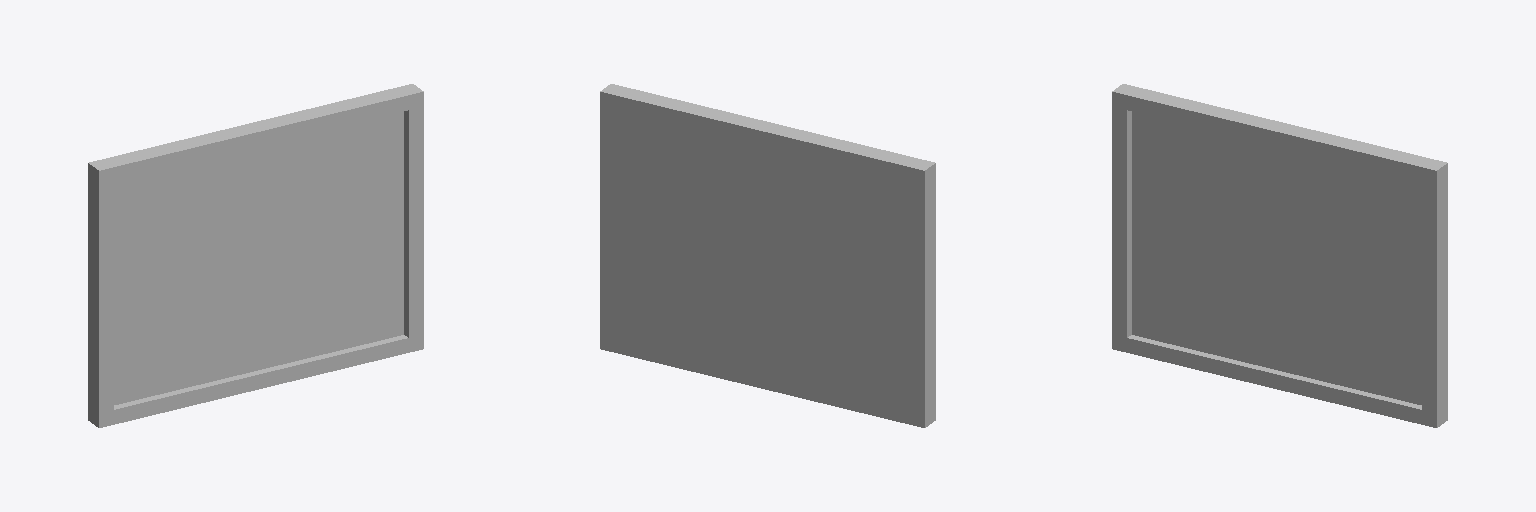
The model's file is window_004.obj.
3 renders of one model, left to right at view 1: azimuth 30°, elevation 25°; view 2: azimuth 150°, elevation 25°; view 3: azimuth 330°, elevation 25°, orthographic.
Parts seen in each view (by area): view 1: window_004_Plane.005; view 2: window_004_Plane.005; view 3: window_004_Plane.005.
Part boxes in pixels (left/top/right/bottom): window_004_Plane.005: left=88, top=84, right=423, bottom=427; window_004_Plane.005: left=600, top=84, right=935, bottom=427; window_004_Plane.005: left=1112, top=84, right=1447, bottom=427.
Size of the model in its own units: 0.9693 by 0.7346 by 0.0571.